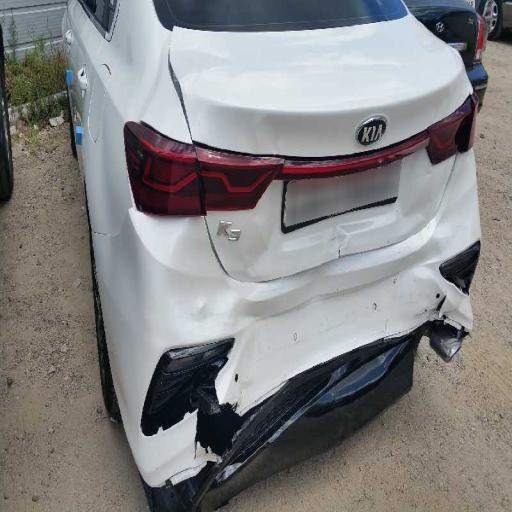broken: (133, 322, 498, 496)
dent: (159, 46, 483, 288)
